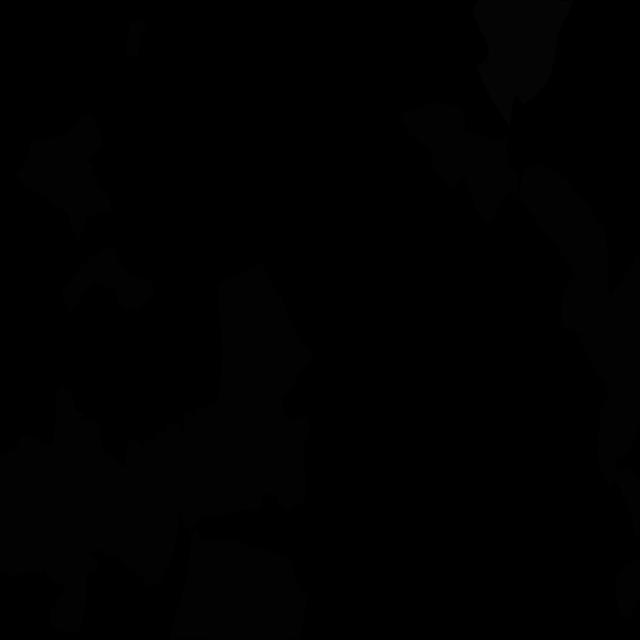cardboard: (181, 263, 315, 532), (0, 417, 131, 576), (99, 407, 199, 586), (581, 249, 640, 540), (517, 163, 609, 346), (203, 361, 310, 516), (169, 528, 308, 640), (399, 102, 518, 224), (13, 115, 111, 243), (61, 247, 154, 314), (46, 553, 98, 633), (614, 555, 640, 620), (55, 384, 87, 422), (126, 20, 147, 57)
soft_plastic: (472, 0, 574, 131)
